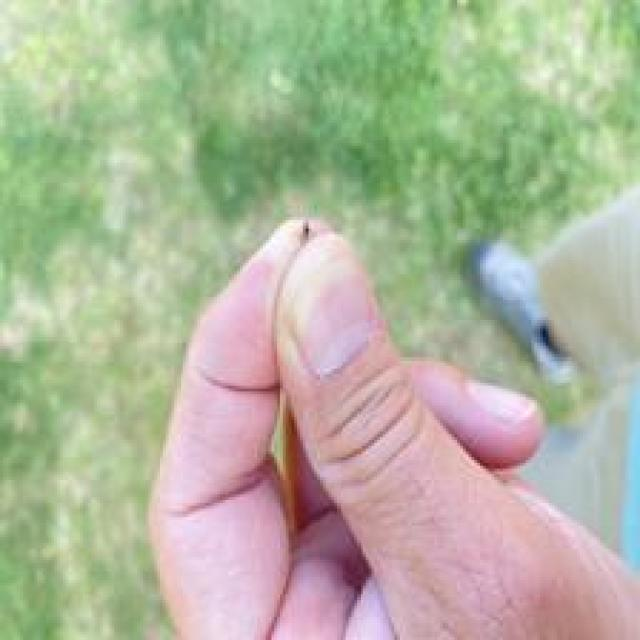Aedes albopictus: (469, 236, 580, 387)
